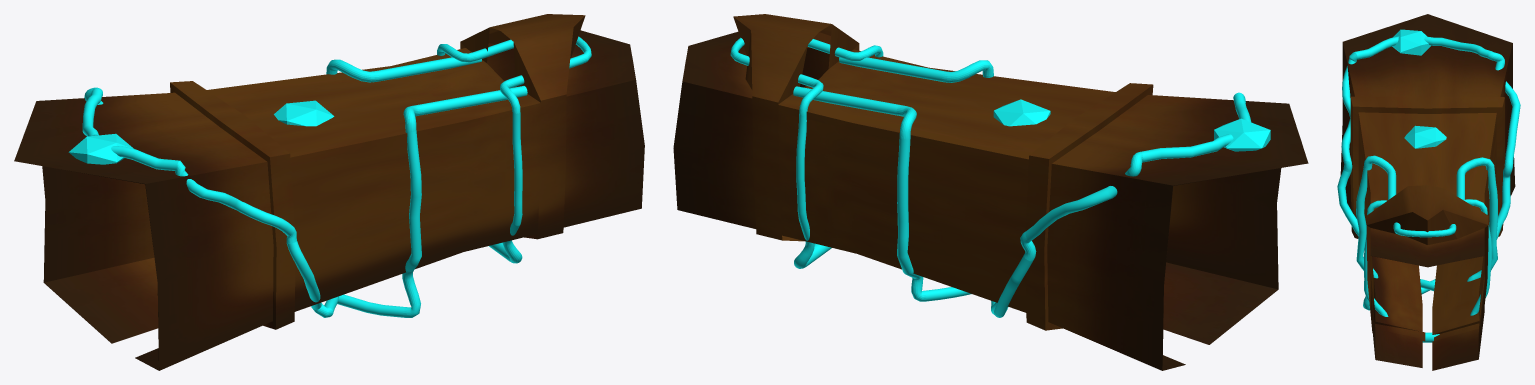
The model's file is Gauntlet2.fbx.
3 renders of one model, left to right at view 1: azimuth 30°, elevation 25°; view 2: azimuth 150°, elevation 25°; view 3: azimuth 270°, elevation 25°, orthographic. The views are drawn at different scales.
Parts seen in each view (by area): view 1: polySurface6; view 2: polySurface6; view 3: polySurface6.
Boxes of the visible parts, x1=… form: polySurface6: x1=14, y1=14, x2=644, y2=370; polySurface6: x1=673, y1=14, x2=1308, y2=370; polySurface6: x1=1337, y1=14, x2=1520, y2=370.
Bounding box in the file's own units: 4.99 × 1.79 × 1.7.
